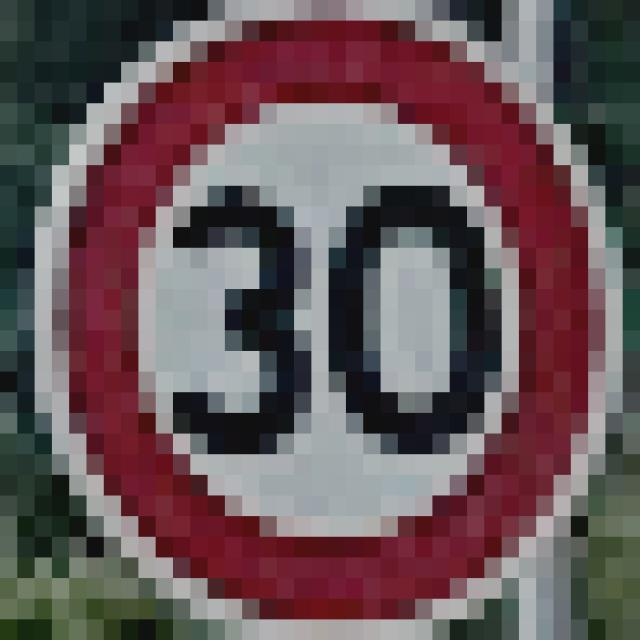speed_30: (0, 0, 622, 619)
